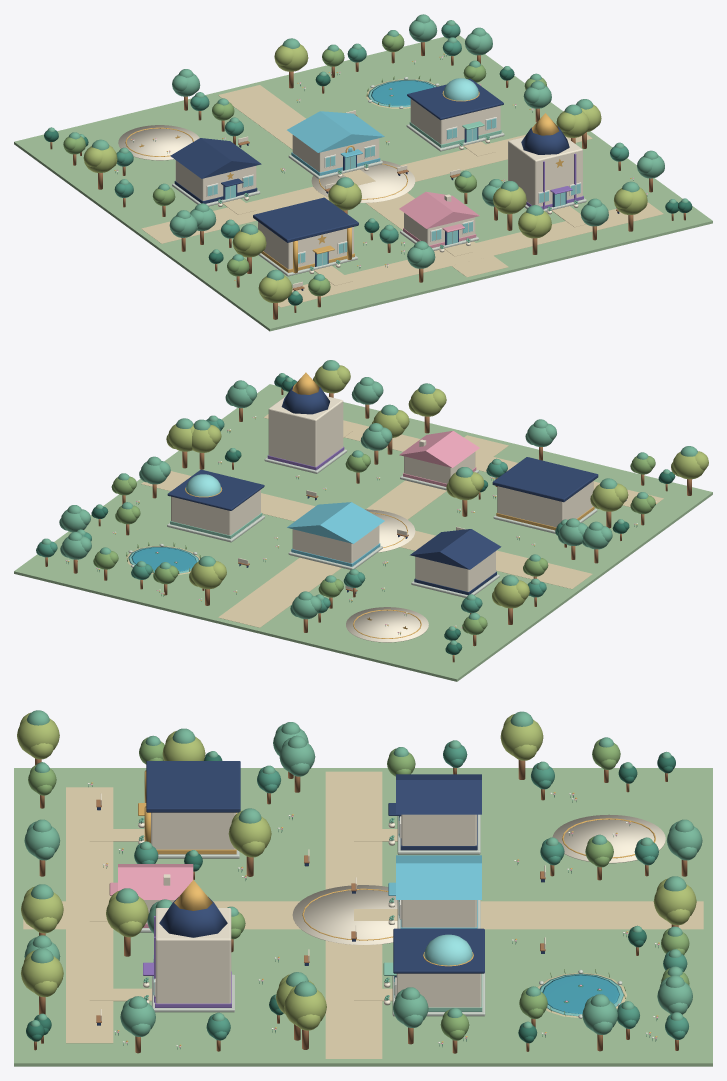
The model's file is town.glb.
The picture shows the model from 3 angles, top to bottom: view 1: azimuth 30°, elevation 25°; view 2: azimuth 150°, elevation 25°; view 3: azimuth 270°, elevation 25°; orthographic projection. The views are drawn at different scales.
Visible parts, largest first — view 1: Dawnlight Town · original Blender architecture, Occluder_Building_gym_light, Occluder_Building_tower_starspire, Occluder_Building_dream_lab, Occluder_Building_care_center, Occluder_Building_ranger_station, Occluder_Building_house_resident_a, Occluder_Tree_woodland_tree_49, Occluder_Tree_woodland_tree_14, Occluder_Tree_woodland_tree_44, Occluder_Tree_woodland_tree_34, Occluder_Tree_woodland_tree_19 (+14 smaller); view 2: Dawnlight Town · original Blender architecture, Occluder_Building_tower_starspire, Occluder_Building_gym_light, Occluder_Building_dream_lab, Occluder_Building_care_center, Occluder_Building_ranger_station, Occluder_Building_house_resident_a, Occluder_Tree_woodland_tree_14, Occluder_Tree_woodland_tree_04, Occluder_Tree_woodland_tree_39, Occluder_Tree_woodland_tree_29, Occluder_Tree_woodland_tree_34 (+15 smaller); view 3: Dawnlight Town · original Blender architecture, Occluder_Building_tower_starspire, Occluder_Building_gym_light, Occluder_Building_dream_lab, Occluder_Building_ranger_station, Occluder_Building_care_center, Occluder_Building_house_resident_a, Occluder_Tree_woodland_tree_39, Occluder_Tree_woodland_tree_19, Occluder_Tree_woodland_tree_44, Occluder_Tree_woodland_tree_49, Occluder_Tree_woodland_tree_24 (+26 smaller).
Part boxes in pixels (box(x1,y1,x2,y2)): Dawnlight Town · original Blender architecture: box(14, 35, 712, 331); Occluder_Building_gym_light: box(253, 197, 358, 276); Occluder_Building_tower_starspire: box(508, 113, 586, 214); Occluder_Building_dream_lab: box(406, 78, 504, 151); Occluder_Building_care_center: box(287, 111, 384, 179); Occluder_Building_ranger_station: box(170, 138, 261, 206); Occluder_Building_house_resident_a: box(399, 191, 479, 252); Occluder_Tree_woodland_tree_49: box(614, 181, 647, 231); Occluder_Tree_woodland_tree_14: box(518, 205, 551, 254); Occluder_Tree_woodland_tree_44: box(493, 181, 526, 230); Occluder_Tree_woodland_tree_34: box(274, 38, 308, 88); Occluder_Tree_woodland_tree_19: box(83, 139, 117, 189); Dawnlight Town · original Blender architecture: box(14, 384, 712, 681); Occluder_Building_tower_starspire: box(264, 372, 347, 473); Occluder_Building_gym_light: box(492, 457, 598, 533); Occluder_Building_dream_lab: box(167, 469, 264, 542); Occluder_Building_care_center: box(287, 502, 384, 569); Occluder_Building_ranger_station: box(410, 529, 501, 597); Occluder_Building_house_resident_a: box(399, 431, 479, 490); Occluder_Tree_woodland_tree_14: box(408, 383, 446, 433); Occluder_Tree_woodland_tree_04: box(590, 478, 628, 528); Occluder_Tree_woodland_tree_39: box(446, 467, 484, 516); Occluder_Tree_woodland_tree_29: box(671, 446, 708, 495); Occluder_Tree_woodland_tree_34: box(189, 556, 226, 605); Dawnlight Town · original Blender architecture: box(14, 768, 712, 1066); Occluder_Building_tower_starspire: box(143, 880, 234, 1012); Occluder_Building_gym_light: box(138, 761, 240, 858); Occluder_Building_dream_lab: box(383, 928, 485, 1016); Occluder_Building_ranger_station: box(388, 774, 481, 854); Occluder_Building_care_center: box(388, 855, 481, 928); Occluder_Building_house_resident_a: box(109, 864, 193, 932); Occluder_Tree_woodland_tree_39: box(228, 808, 271, 876); Occluder_Tree_woodland_tree_19: box(500, 711, 543, 779); Occluder_Tree_woodland_tree_44: box(106, 888, 148, 956); Occluder_Tree_woodland_tree_49: box(21, 948, 63, 1014); Occluder_Tree_woodland_tree_24: box(284, 981, 326, 1049).
Bounding box in the file's own units: 74.38 × 13.92 × 74.
